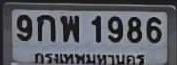1: (91, 15, 100, 42)
6: (146, 16, 161, 42)
8: (126, 16, 141, 42)
9: (107, 15, 122, 42), (16, 14, 31, 40)
A01: (36, 14, 55, 41)
A30: (60, 14, 78, 41)
BKK: (33, 50, 146, 65)
